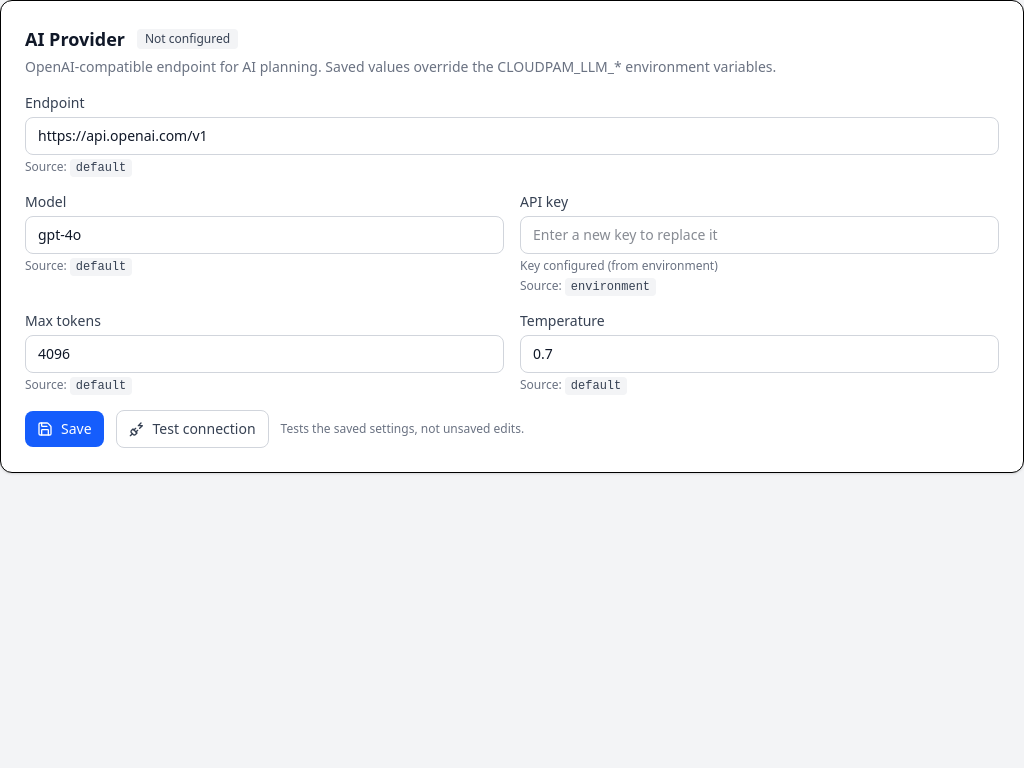
Test: AIProviderSettingsCard › shows the server detail under the key field when the endpoint change is rejected
Expected: the field labelled "Model" is not empty, top-left (25, 216), bottom-right (504, 254)
Type "https://new.example/v1" into the field labelled "Endpoint" at (512, 136), box top-left (25, 117), bottom-right (999, 155)
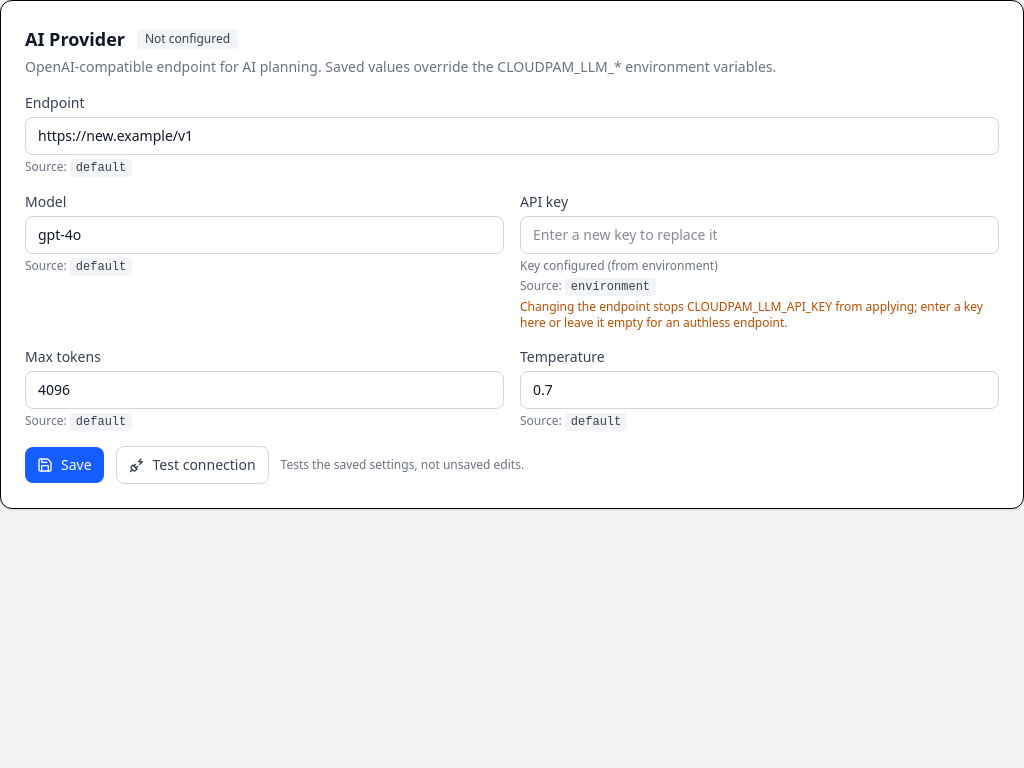
Click the button "Save" at (64, 465), box top-left (25, 447), bottom-right (104, 483)
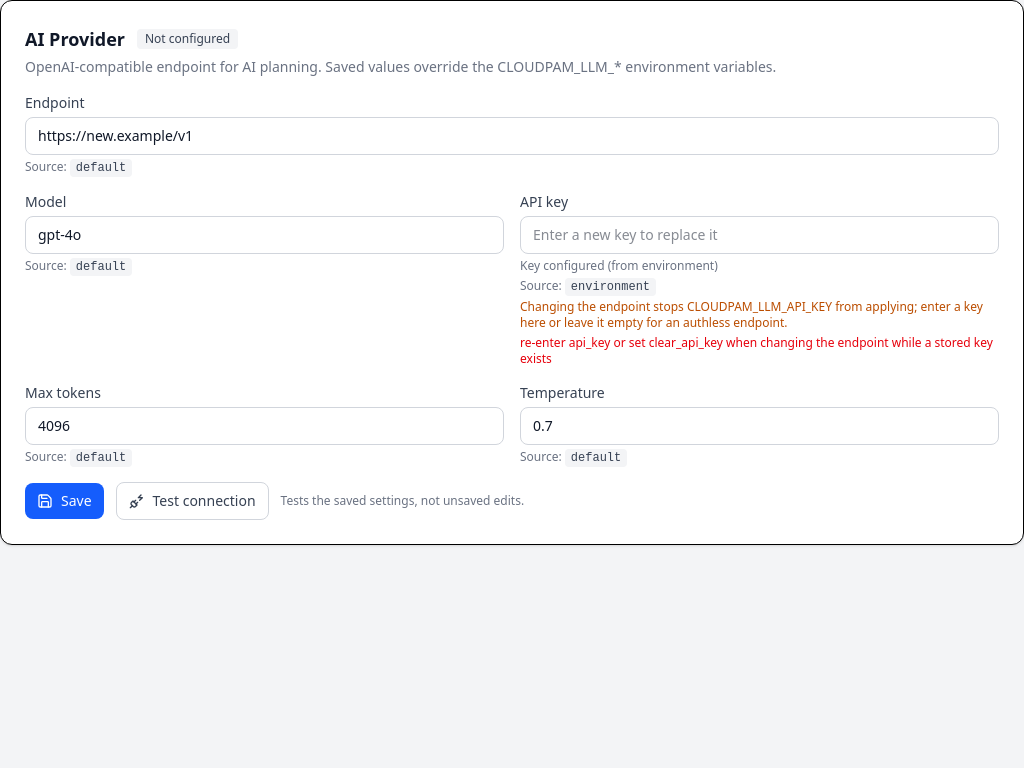
Now the text "re-enter api_key or set clear_api_key when changing the endpoint while a stored key exists" is shown, box top-left (520, 334), bottom-right (993, 367)
